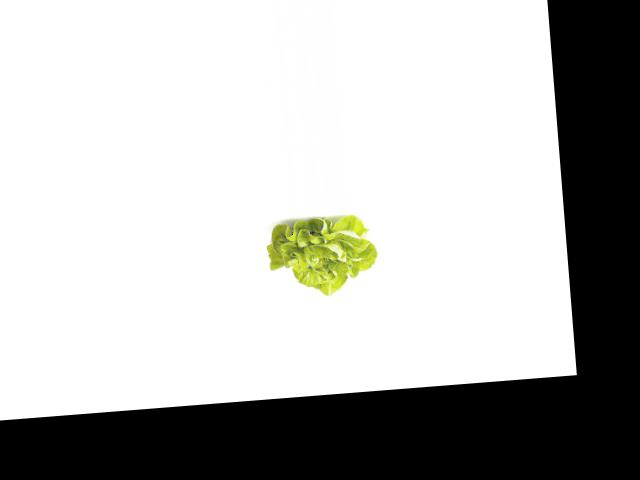lettuce: (263, 211, 383, 299)
